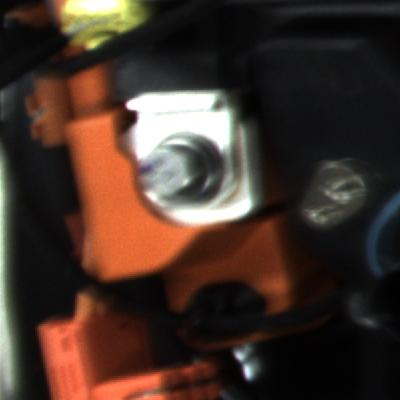nut_b: (131, 129, 231, 216)
